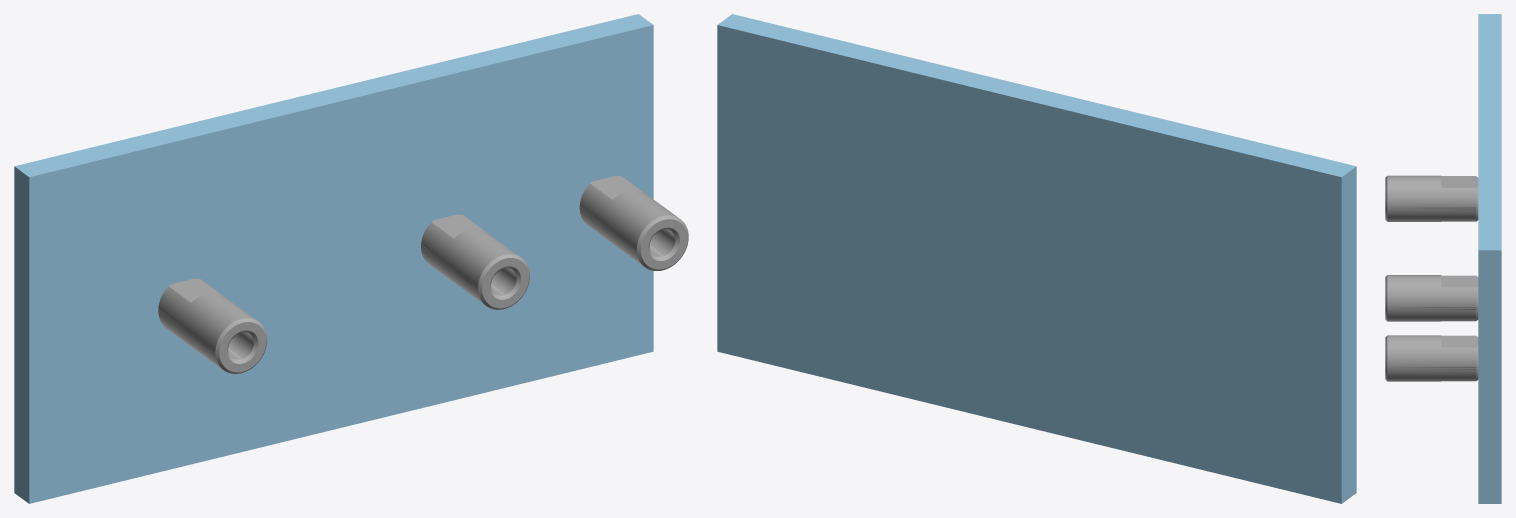
File: factory_gear_base_loose_space_5e-4_subdiv_4x.obj
3 renders of one model, left to right at view 1: azimuth 30°, elevation 25°; view 2: azimuth 150°, elevation 25°; view 3: azimuth 270°, elevation 25°, orthographic. The views are drawn at different scales.
Parts seen in each view (by area): view 1: mesh21, mesh18, mesh19, mesh6, mesh6.000, mesh6.001, mesh15, mesh15.000, mesh15.001; view 2: mesh22, mesh18, mesh19; view 3: mesh17, mesh18, mesh6.000, mesh6.001, mesh6, mesh1.000, mesh1.001, mesh1.
Boxes of the visible parts, x1=… form: mesh21: x1=29, y1=25, x2=653, y2=503; mesh18: x1=15, y1=14, x2=652, y2=177; mesh19: x1=14, y1=166, x2=29, y2=503; mesh6: x1=158, y1=280, x2=256, y2=368; mesh6.000: x1=579, y1=177, x2=678, y2=266; mesh6.001: x1=421, y1=216, x2=519, y2=303; mesh15: x1=219, y1=322, x2=266, y2=372; mesh15.000: x1=641, y1=219, x2=687, y2=269; mesh15.001: x1=482, y1=258, x2=528, y2=308; mesh22: x1=717, y1=25, x2=1341, y2=503; mesh18: x1=718, y1=14, x2=1355, y2=177; mesh19: x1=1341, y1=166, x2=1356, y2=503; mesh17: x1=1478, y1=250, x2=1501, y2=503; mesh18: x1=1478, y1=14, x2=1501, y2=250; mesh6.000: x1=1387, y1=335, x2=1476, y2=381; mesh6.001: x1=1387, y1=275, x2=1476, y2=321; mesh6: x1=1387, y1=175, x2=1476, y2=221; mesh1.000: x1=1441, y1=335, x2=1478, y2=347; mesh1.001: x1=1441, y1=275, x2=1478, y2=287; mesh1: x1=1441, y1=176, x2=1478, y2=187.
Size of the model in its own units: 0.12 by 0.06 by 0.025.
